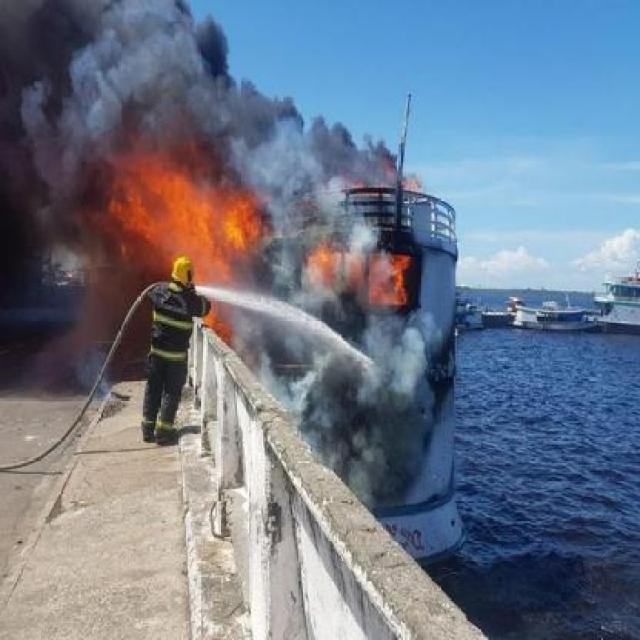Fire: (102, 138, 268, 287), (370, 253, 415, 304), (306, 240, 336, 280)
